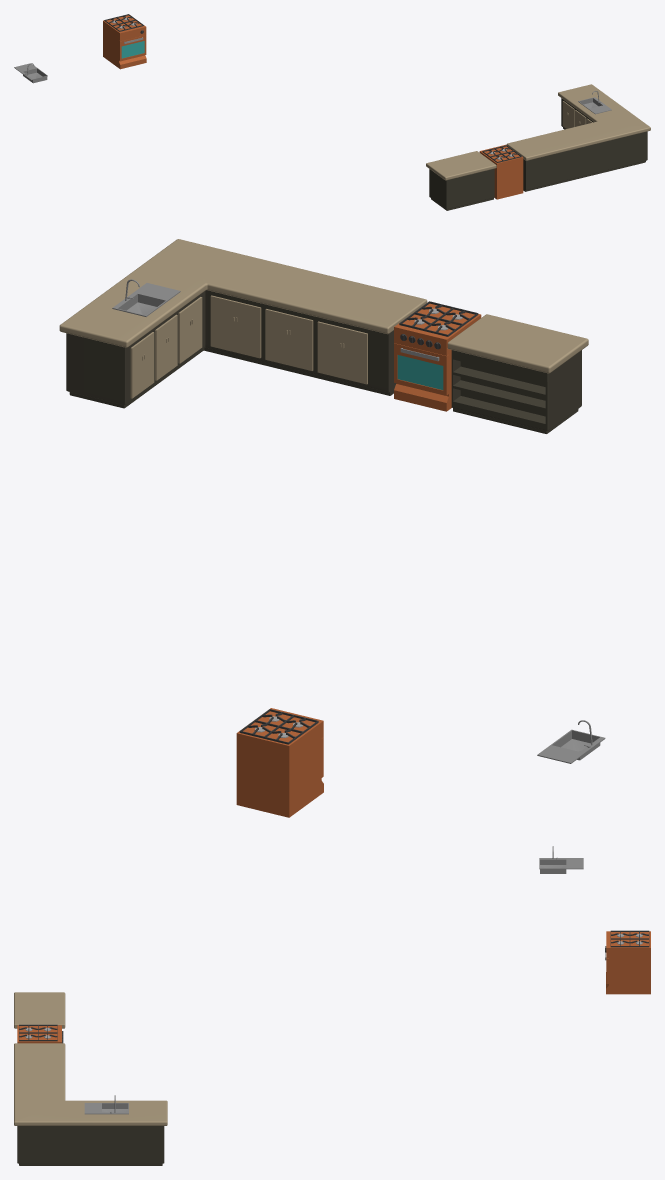
File: Kitchen2_Updated.fbx
3 views of the same model, one above another, from view 1: azimuth 30°, elevation 25°; view 2: azimuth 150°, elevation 25°; view 3: azimuth 270°, elevation 25° (orthographic). The views are drawn at different scales.
Visible parts, largest first — view 1: Countertop_1, BaseCabinet_1, Stove_Body (×2), BaseCabinet_2, Countertop_2, Sink (×2), Stove_Door, Stove_Grate; view 2: Countertop_1, Stove_Body (×2), BaseCabinet_1, BaseCabinet_2, Countertop_2, Sink (×2), Stove_Door, Stove_Grate (×2), CabinetDoor_R4, CabinetDoor_R6, CabinetDoor_L4, CabinetDoor_L6 (+4 smaller); view 3: Countertop_1, BaseCabinet_1, Stove_Body (×2), Countertop_2, Sink (×2).
Part boxes in pixels (<box>): Countertop_1: <box>506,84,650,160</box>; BaseCabinet_1: <box>523,98,647,191</box>; Stove_Body (×2): <box>103,15,523,199</box>; BaseCabinet_2: <box>429,169,494,210</box>; Countertop_2: <box>426,151,496,180</box>; Sink (×2): <box>14,63,611,114</box>; Stove_Door: <box>119,35,146,61</box>; Stove_Grate: <box>104,14,143,31</box>; Countertop_1: <box>59,239,427,347</box>; Stove_Body (×2): <box>236,303,481,817</box>; BaseCabinet_1: <box>66,290,396,408</box>; BaseCabinet_2: <box>451,350,581,433</box>; Countertop_2: <box>447,314,588,373</box>; Sink (×2): <box>112,283,605,763</box>; Stove_Door: <box>394,343,448,395</box>; Stove_Grate (×2): <box>239,301,478,744</box>; CabinetDoor_R4: <box>235,301,261,358</box>; CabinetDoor_R6: <box>342,327,367,384</box>; CabinetDoor_L4: <box>210,295,235,352</box>; CabinetDoor_L6: <box>317,321,342,378</box>; Countertop_1: <box>14,1043,167,1125</box>; BaseCabinet_1: <box>17,1126,164,1165</box>; Stove_Body (×2): <box>17,931,650,1043</box>; Countertop_2: <box>14,992,65,1028</box>; Sink (×2): <box>84,858,583,1114</box>.
Bounding box in the file's own units: 12.15 × 1.33 × 12.44.
